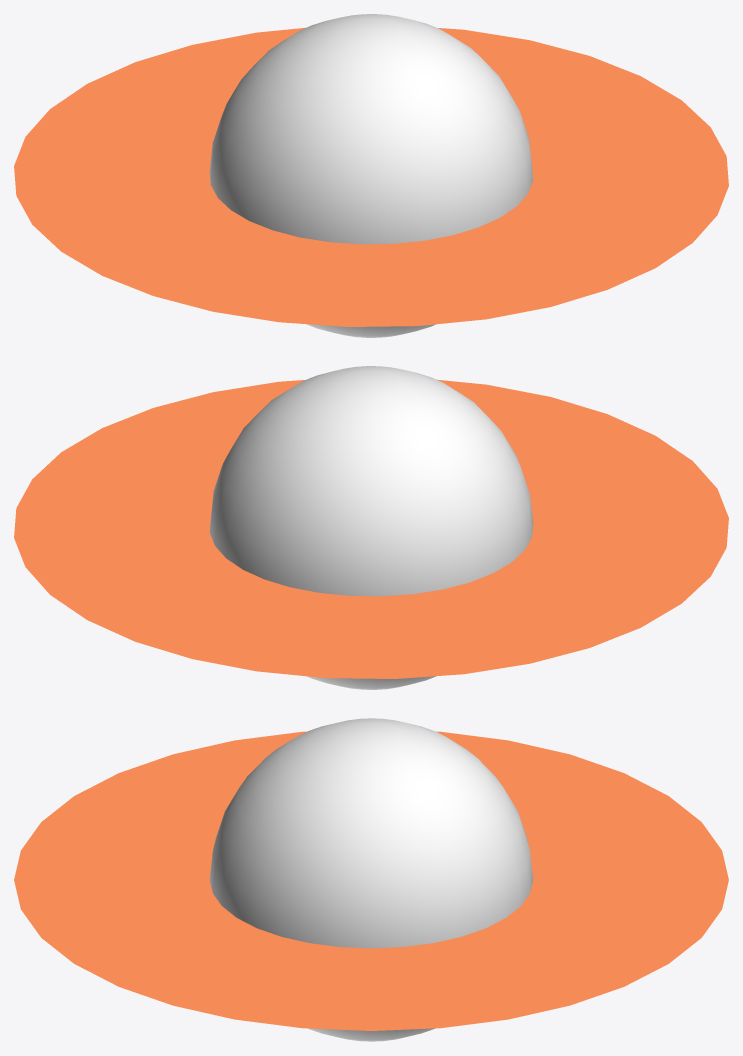
Rendered from black_hole_project.glb.
3 views of the same model, one above another, from view 1: azimuth 30°, elevation 25°; view 2: azimuth 150°, elevation 25°; view 3: azimuth 270°, elevation 25° (orthographic).
Parts seen in each view (by area): view 1: Circle, Sphere; view 2: Circle, Sphere; view 3: Circle, Sphere.
Part boxes in pixels (x1,y1,x2,y2): Circle: (14,27,728,326); Sphere: (209,14,533,337); Circle: (14,379,728,678); Sphere: (209,366,533,689); Circle: (14,731,728,1030); Sphere: (209,718,533,1041).
Bounding box in the file's own units: 13.4 × 6.06 × 13.4.
